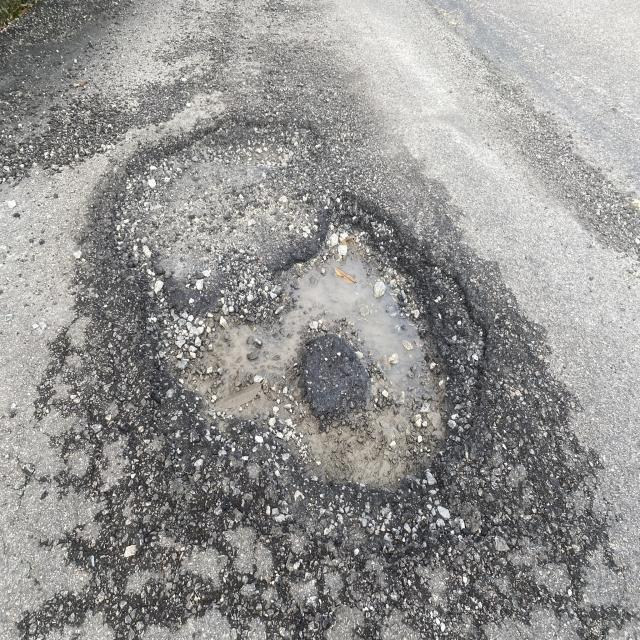Pothole: (112, 168, 534, 550)
